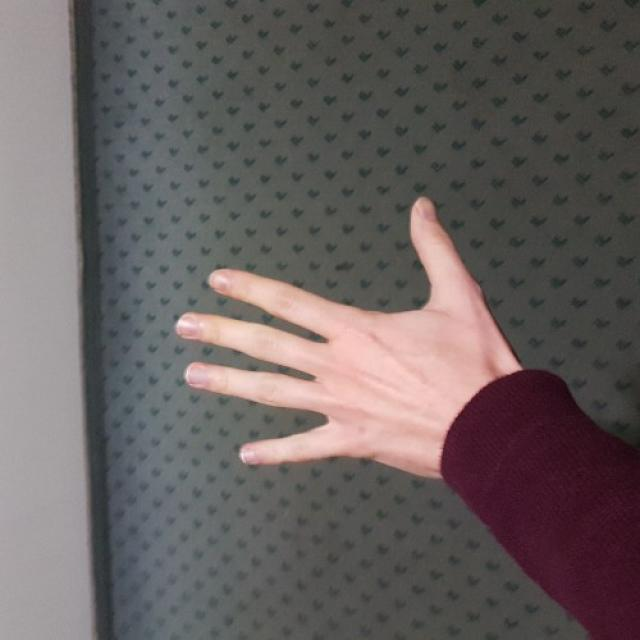paper: (175, 191, 454, 477)
